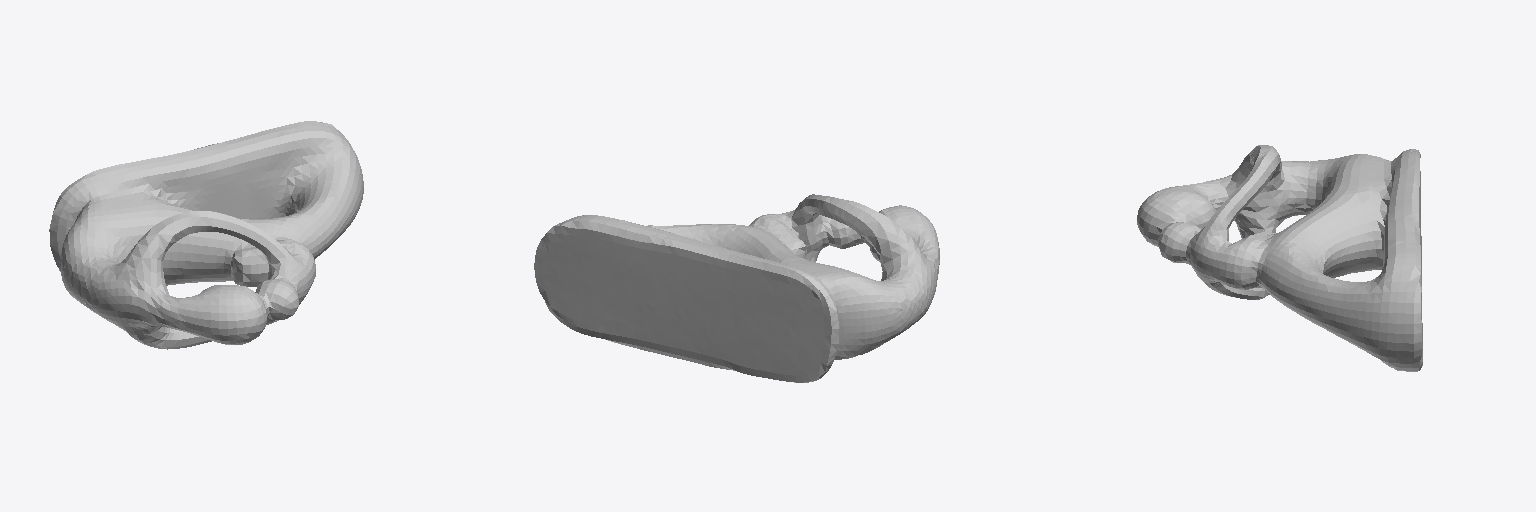
Rendered from fertility_quad.obj.
The picture shows the model from 3 angles: view 1: azimuth 30°, elevation 25°; view 2: azimuth 150°, elevation 25°; view 3: azimuth 270°, elevation 25°; orthographic projection.
Visible parts, largest first — view 1: fertility.001; view 2: fertility.001; view 3: fertility.001.
Part boxes in pixels (x1,y1,x2,y2): fertility.001: (49, 121, 363, 349); fertility.001: (534, 194, 939, 382); fertility.001: (1137, 145, 1422, 371).
Bounding box in the file's own units: 5.56 × 2.16 × 4.17.